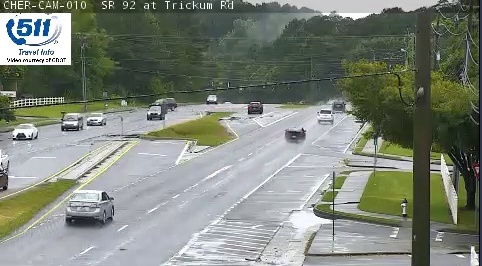car: (66, 189, 114, 220), (284, 127, 306, 144), (316, 109, 333, 123)
